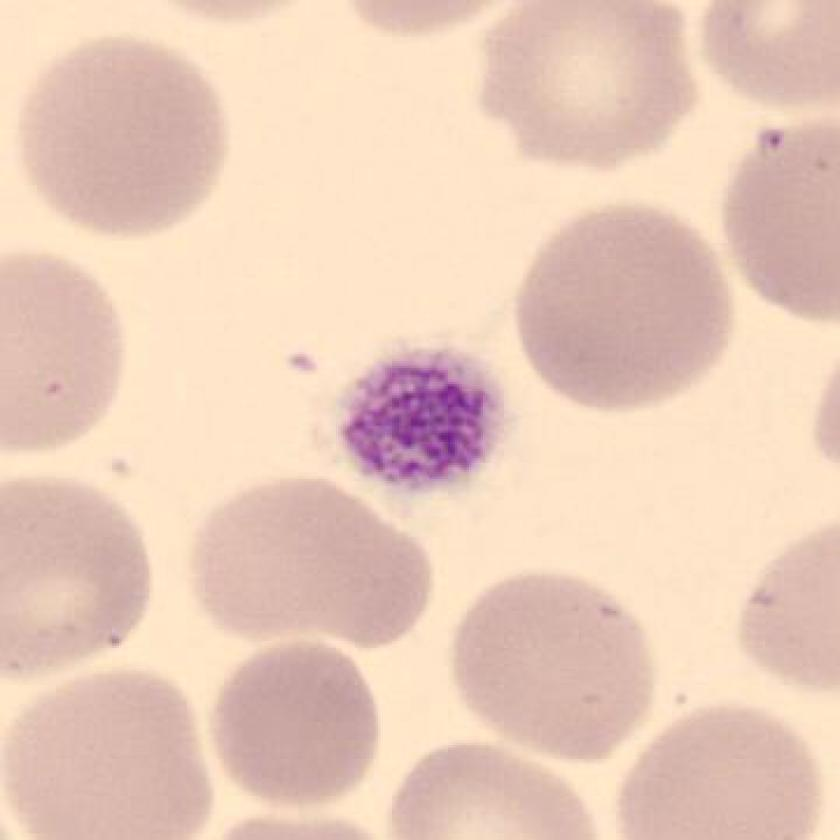platelets: (326, 334, 522, 510)
